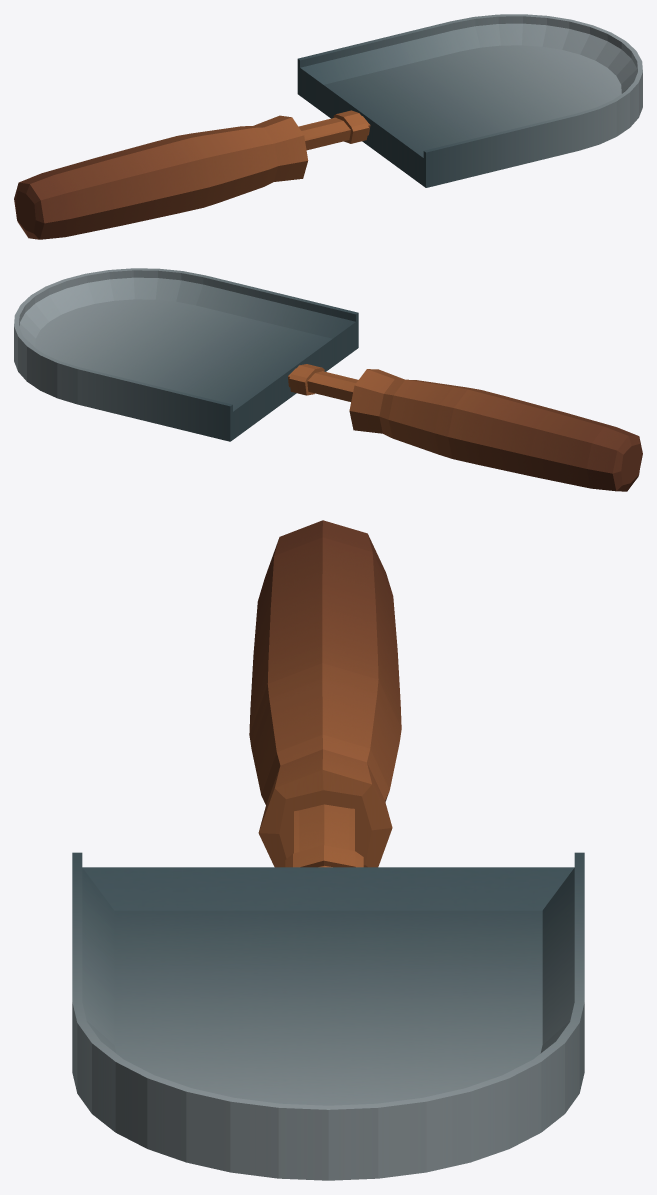
The model's file is PadeJardinagem2.fbx.
3 views of the same model, one above another, from view 1: azimuth 30°, elevation 25°; view 2: azimuth 150°, elevation 25°; view 3: azimuth 270°, elevation 25° (orthographic). The views are drawn at different scales.
Visible parts, largest first — view 1: Cube.002; view 2: Cube.002; view 3: Cube.002.
Boxes of the visible parts, left/top/right/bottom form: Cube.002: left=14, top=14, right=642, bottom=239; Cube.002: left=14, top=268, right=642, bottom=491; Cube.002: left=72, top=520, right=584, bottom=1180.
Size of the model in its own units: 91.65 by 10.08 by 33.9.
1 material, 1 textured.
